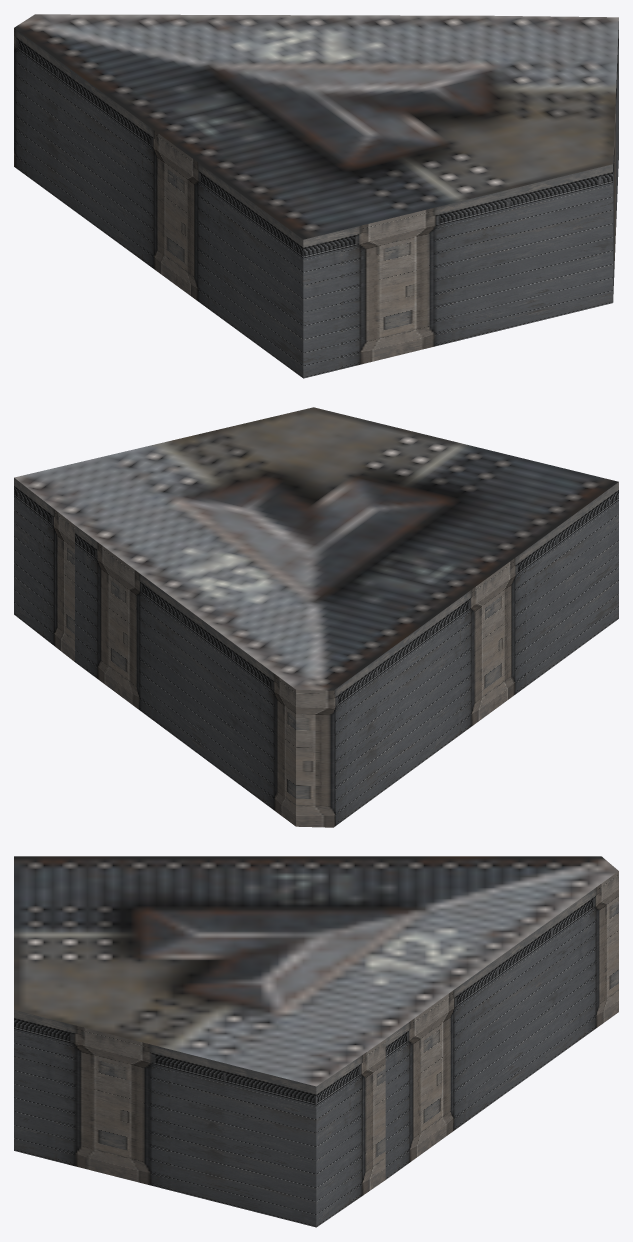
File: hangar_hard_12.glb
3 views of the same model, one above another, from view 1: azimuth 30°, elevation 25°; view 2: azimuth 150°, elevation 25°; view 3: azimuth 270°, elevation 25° (orthographic). The views are drawn at different scales.
Parts seen in each view (by area): view 1: buildings/saxarba/hangar_hard/hangar_hard_12; view 2: buildings/saxarba/hangar_hard/hangar_hard_12; view 3: buildings/saxarba/hangar_hard/hangar_hard_12.
Part boxes in pixels (bbox=[...]): buildings/saxarba/hangar_hard/hangar_hard_12: bbox=[14, 14, 618, 378]; buildings/saxarba/hangar_hard/hangar_hard_12: bbox=[14, 407, 618, 827]; buildings/saxarba/hangar_hard/hangar_hard_12: bbox=[14, 856, 618, 1227].
Size of the model in its own units: 63 by 18 by 70.
